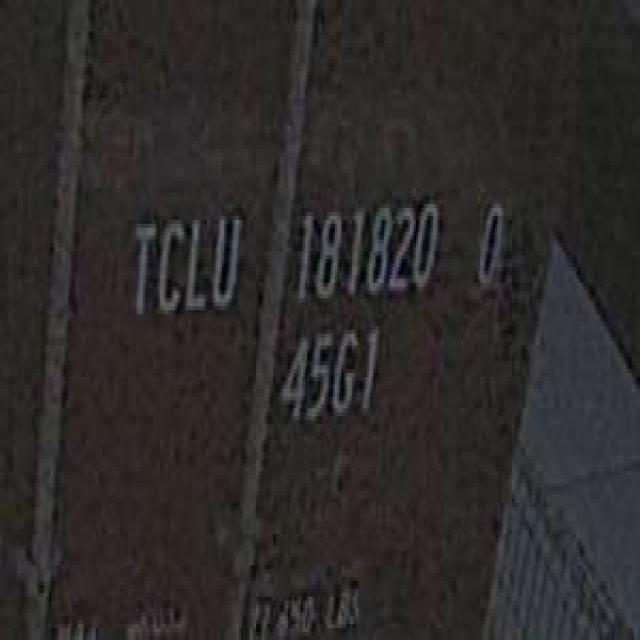dv: (472, 188, 506, 294)
owner: (124, 196, 243, 326)
serial: (288, 192, 442, 306)
size: (275, 318, 382, 432)
